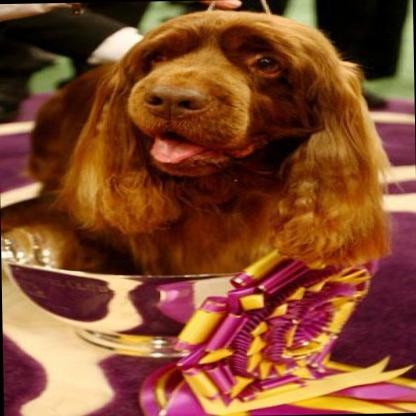Sussex_spaniel: (25, 5, 392, 275)
